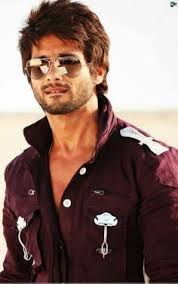Indian_Male: (19, 12, 110, 116)
